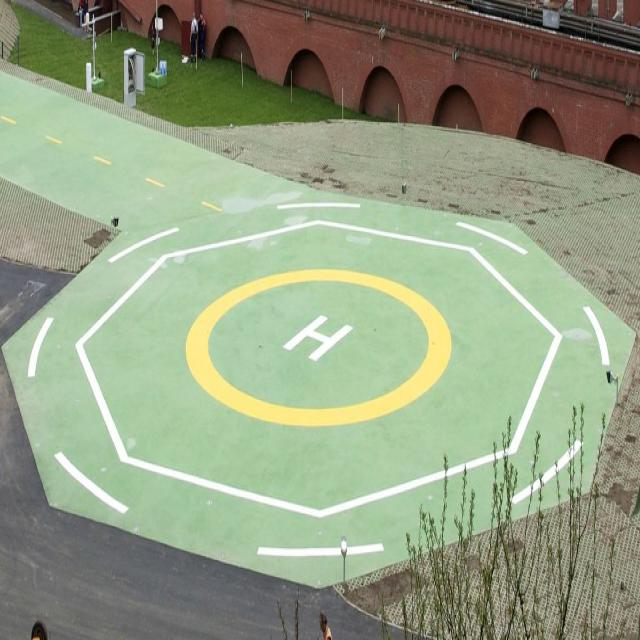helipad: (182, 261, 453, 434)
